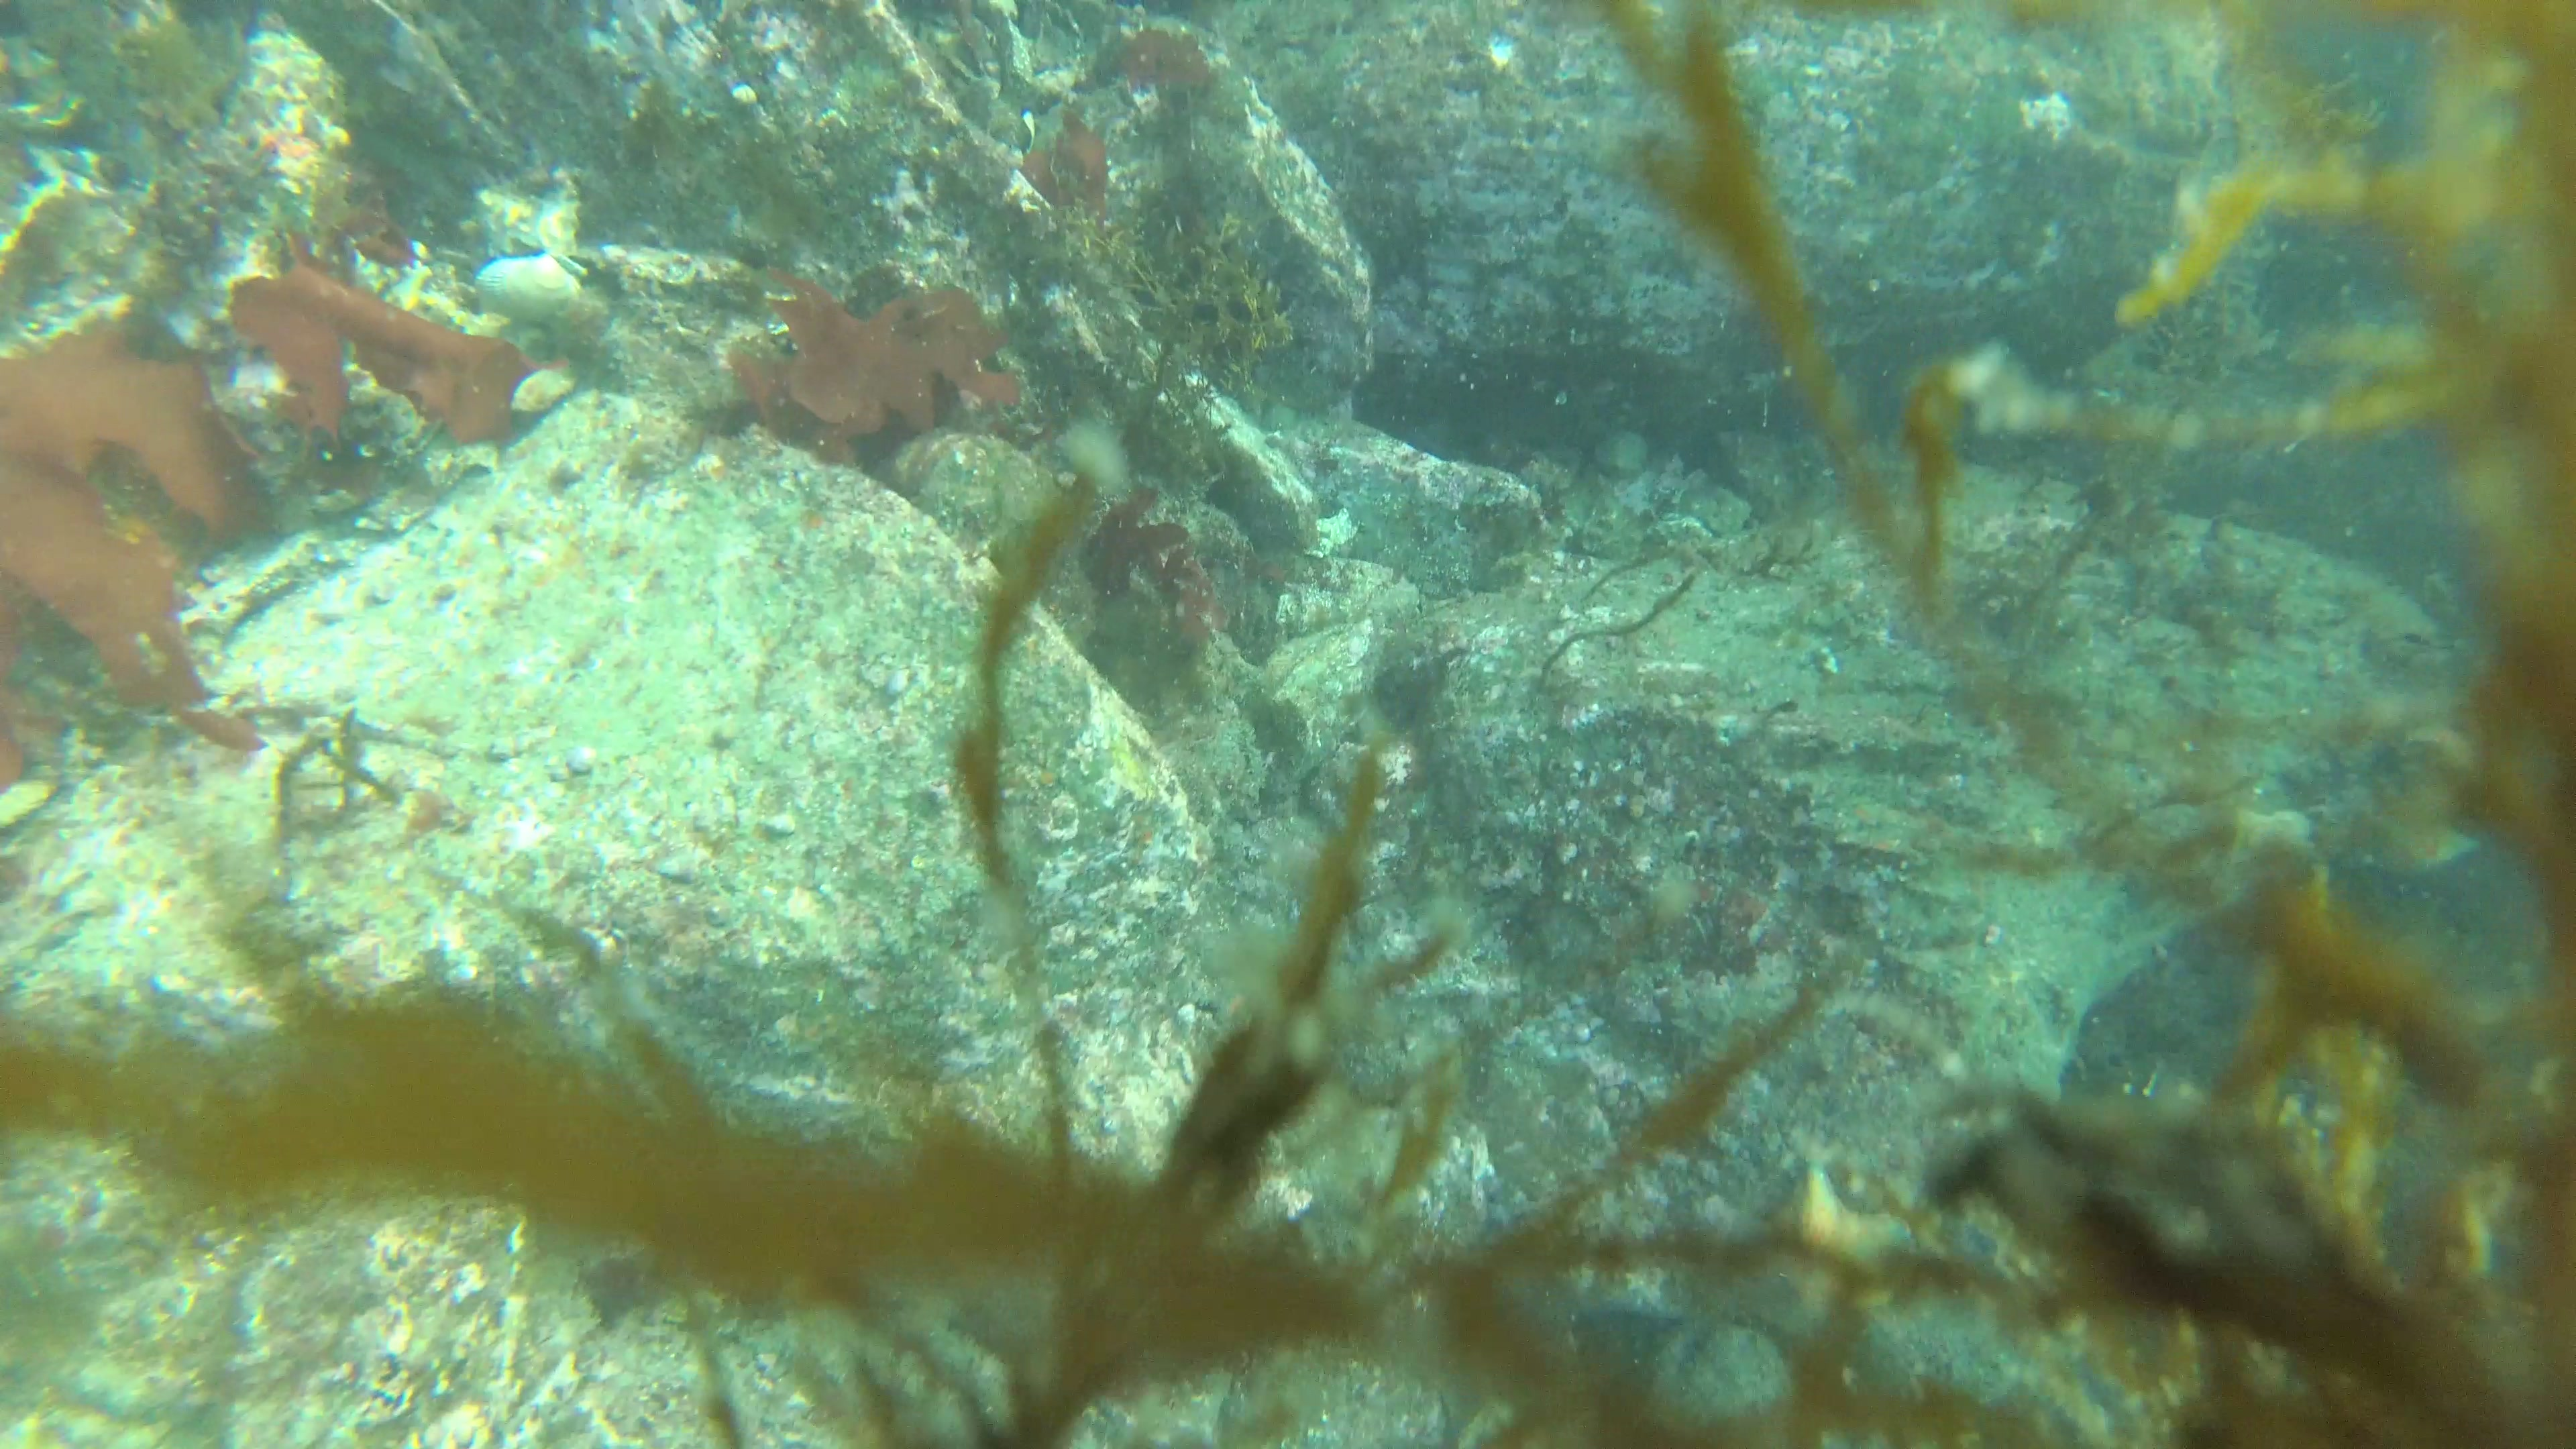scallop: (469, 255, 591, 327)
